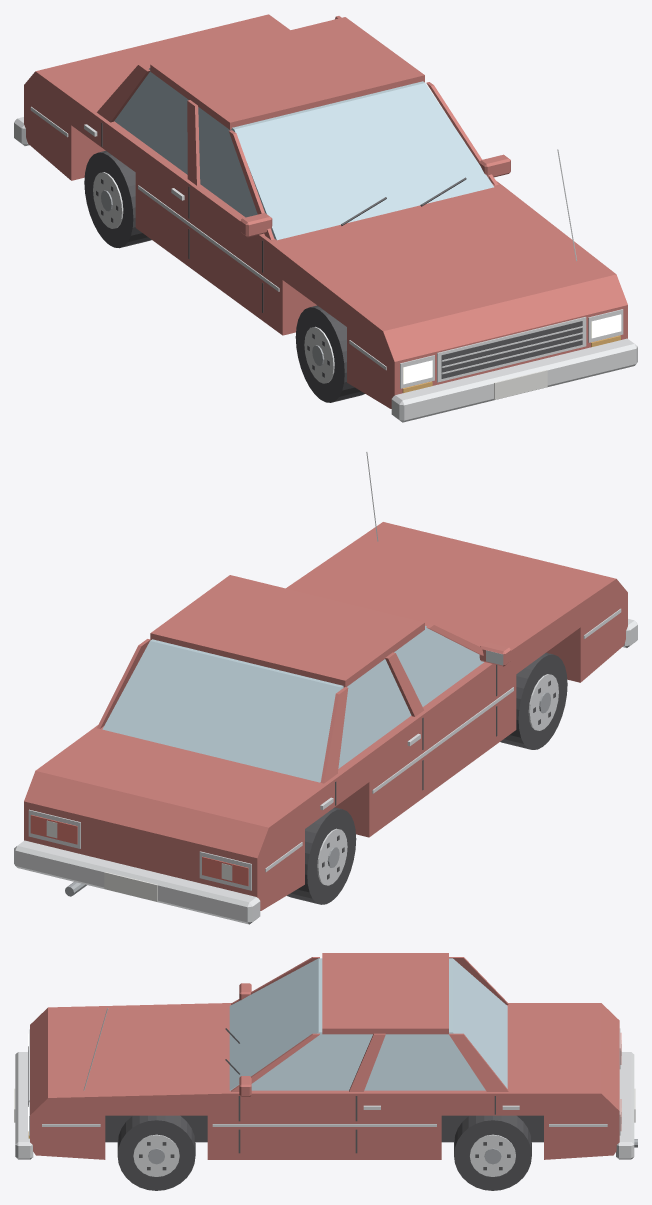
File: car_sedan_r.glb
The picture shows the model from 3 angles, top to bottom: view 1: azimuth 30°, elevation 25°; view 2: azimuth 150°, elevation 25°; view 3: azimuth 270°, elevation 25°; orthographic projection. The views are drawn at different scales.
Parts seen in each view (by area): view 1: car_sedan_r_car_r, car_sedan_r_glass, car_sedan_r_chrome, car_sedan_r_rubber, car_sedan_r_dark, car_sedan_r_lamp_glass, car_sedan_r_paint_w; view 2: car_sedan_r_car_r, car_sedan_r_glass, car_sedan_r_chrome, car_sedan_r_rubber, car_sedan_r_neon_r, car_sedan_r_paint_w; view 3: car_sedan_r_car_r, car_sedan_r_glass, car_sedan_r_rubber, car_sedan_r_chrome, car_sedan_r_dark, car_sedan_r_steel.
Part boxes in pixels (x1,y1,x2,y2): car_sedan_r_car_r: (24, 14, 627, 408); car_sedan_r_glass: (114, 68, 493, 240); car_sedan_r_chrome: (14, 106, 637, 422); car_sedan_r_rubber: (84, 150, 364, 402); car_sedan_r_dark: (96, 122, 582, 378); car_sedan_r_lamp_glass: (403, 314, 621, 384); car_sedan_r_paint_w: (494, 370, 547, 399); car_sedan_r_car_r: (24, 522, 627, 910); car_sedan_r_glass: (102, 626, 483, 782); car_sedan_r_chrome: (14, 451, 637, 924); car_sedan_r_rubber: (287, 652, 567, 904); car_sedan_r_neon_r: (30, 815, 248, 886); car_sedan_r_paint_w: (46, 820, 232, 901); car_sedan_r_car_r: (30, 953, 619, 1159); car_sedan_r_glass: (229, 958, 507, 1090); car_sedan_r_rubber: (105, 1115, 543, 1190); car_sedan_r_chrome: (15, 1008, 634, 1176); car_sedan_r_dark: (28, 1028, 510, 1170); car_sedan_r_steel: (148, 1139, 637, 1164).
Bounding box in the file's own units: 2 × 1.6 × 5.12.
